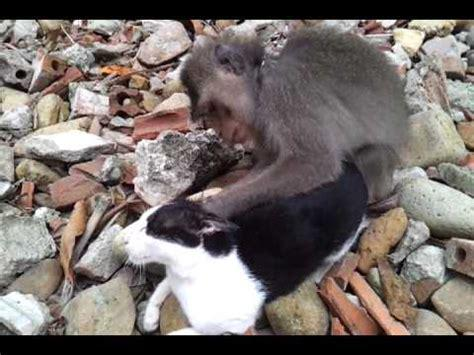cat: (122, 164, 366, 333)
monkey: (179, 25, 405, 218)
